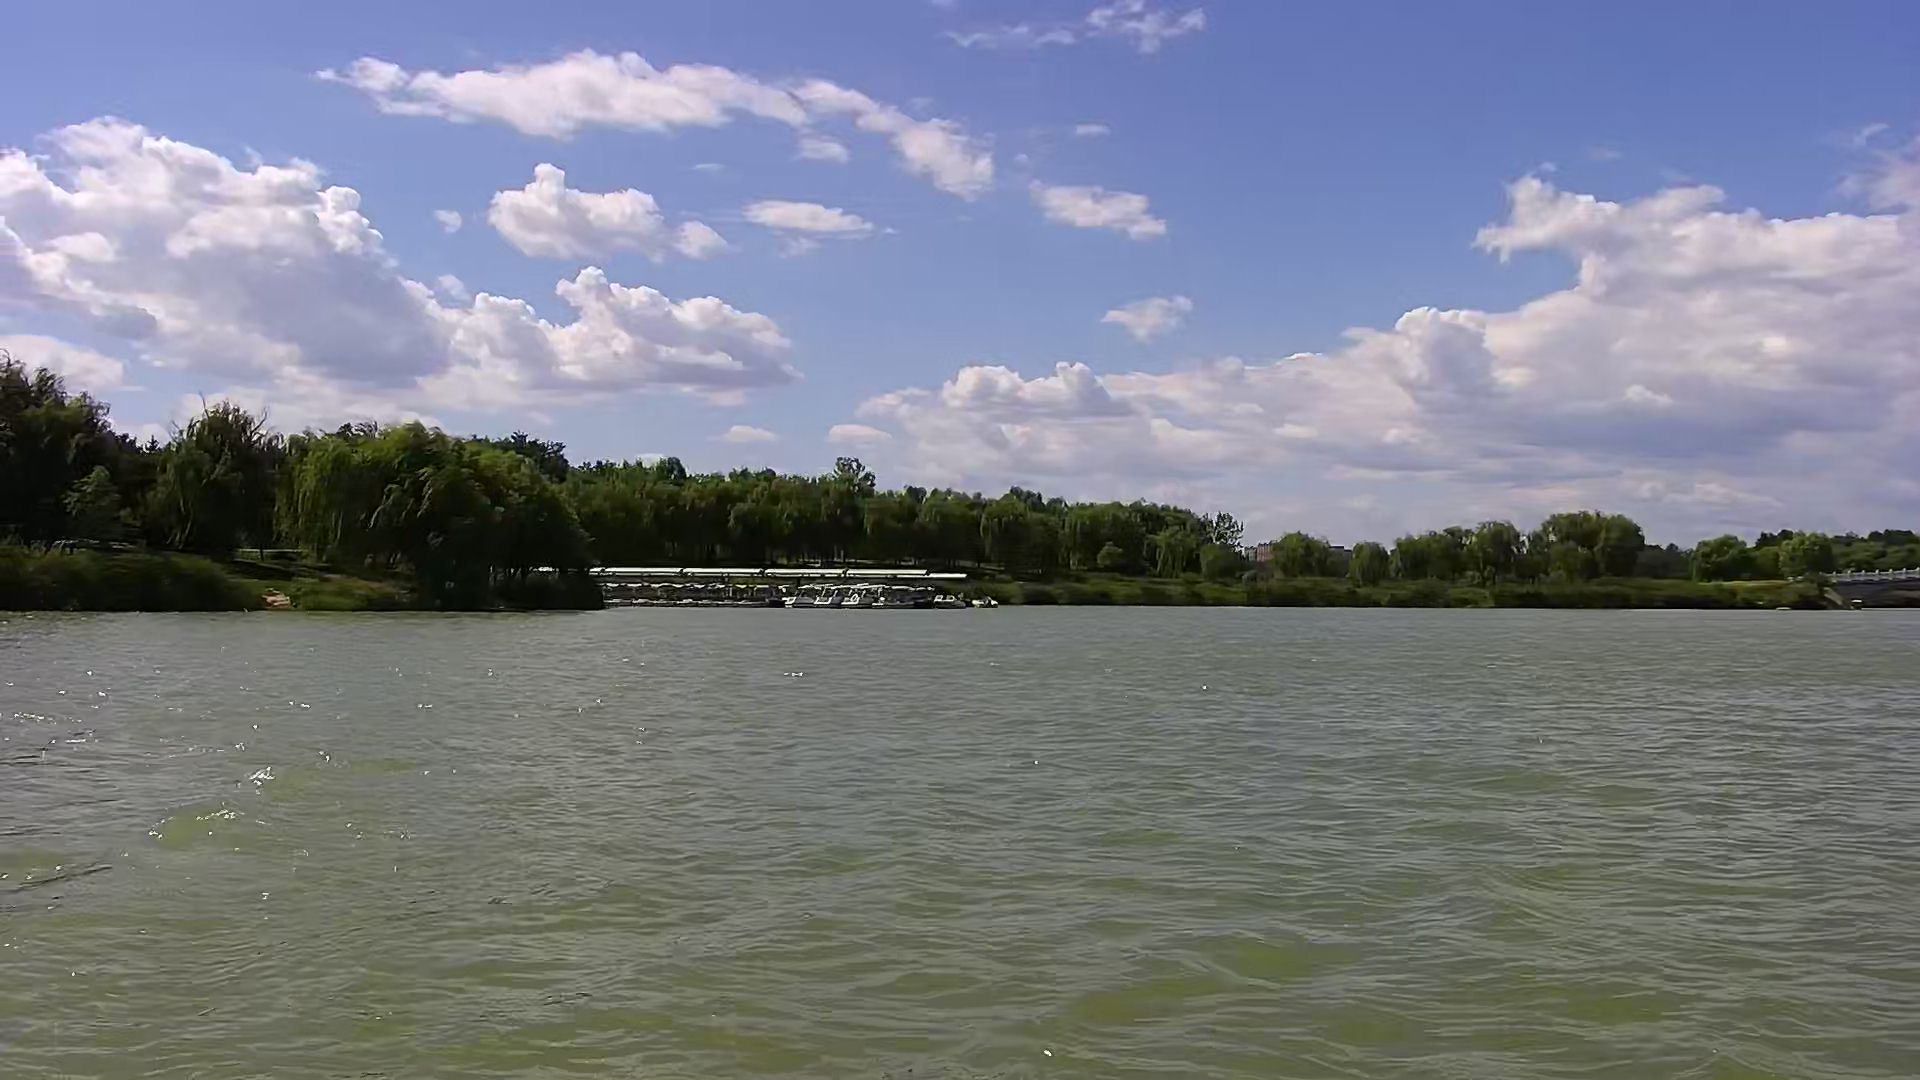harbor: (593, 559, 1000, 611)
